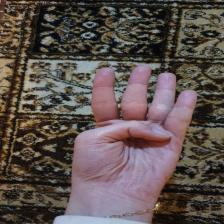four: (68, 64, 201, 210)
